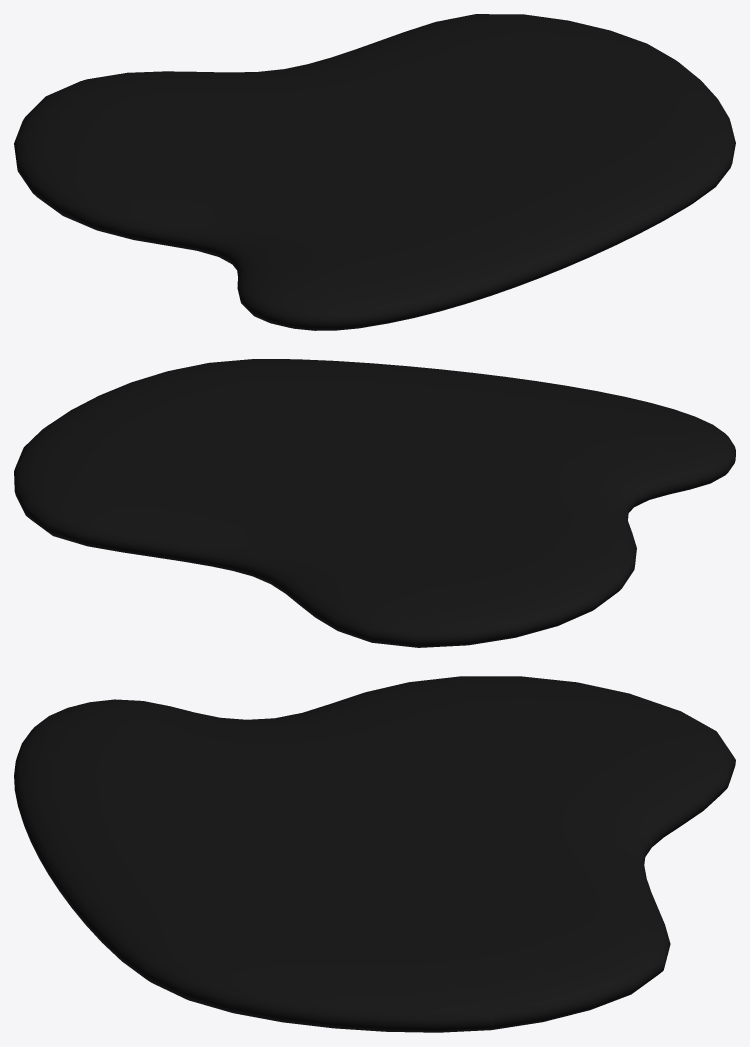
Rendered from static2.glb.
The picture shows the model from 3 angles, top to bottom: view 1: azimuth 30°, elevation 25°; view 2: azimuth 150°, elevation 25°; view 3: azimuth 270°, elevation 25°; orthographic projection. The views are drawn at different scales.
Parts seen in each view (by area): view 1: Remesh; view 2: Remesh; view 3: Remesh.
Part boxes in pixels (x1,y1,x2,y2): Remesh: (14, 14, 735, 330); Remesh: (14, 359, 735, 647); Remesh: (14, 676, 735, 1032).
Size of the model in its own units: 3.42 by 0.2243 by 3.05.
1 material, 1 textured.
